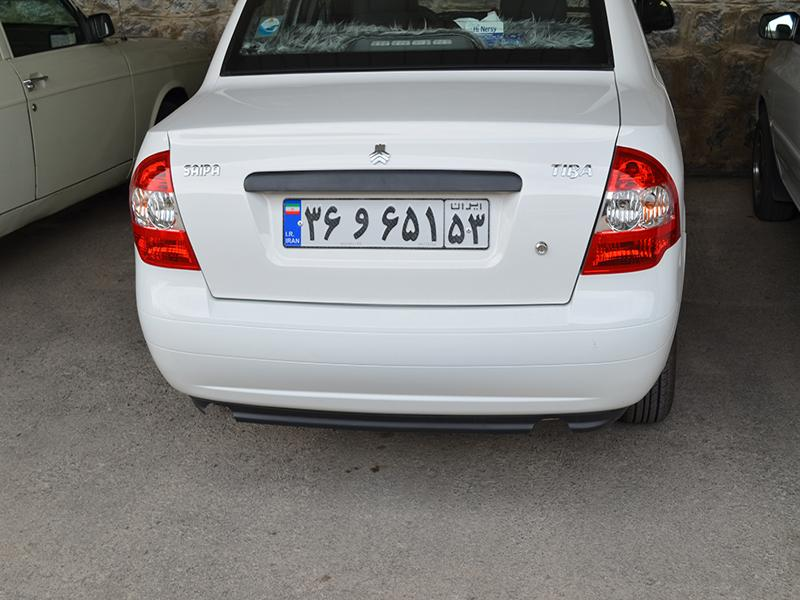Plate: (271, 192, 492, 261)
